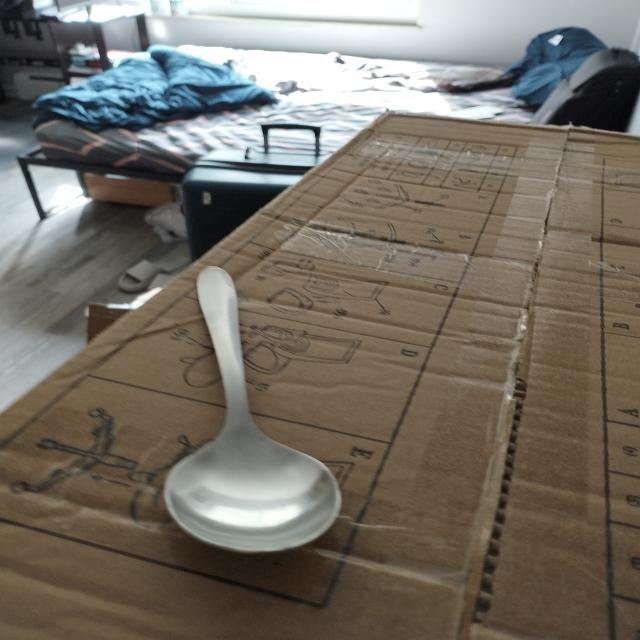Spoon: (60, 255, 397, 567)
